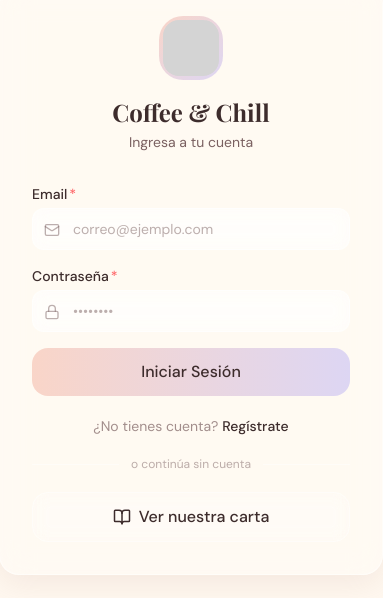
Test: LoginForm › form submission › submit button shows loading state during submission
Type "a@b.com" into the field labelled "Email*". click: (191, 229)
box: x1=32 y1=208 x2=350 y2=250
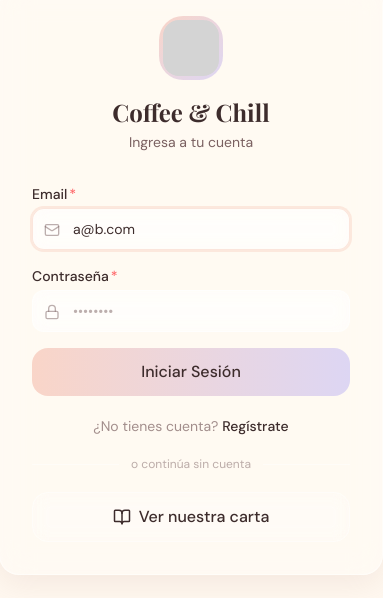
Type "pass" into the password field labelled "Contraseña*". click: (191, 311)
box: x1=32 y1=290 x2=350 y2=332
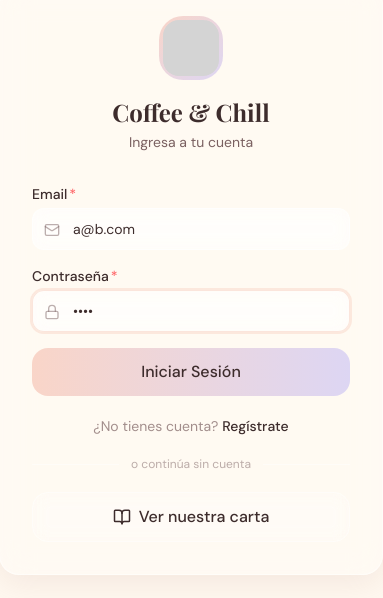
Click the button "Iniciar Sesión". click: (191, 372)
box: x1=32 y1=348 x2=350 y2=396
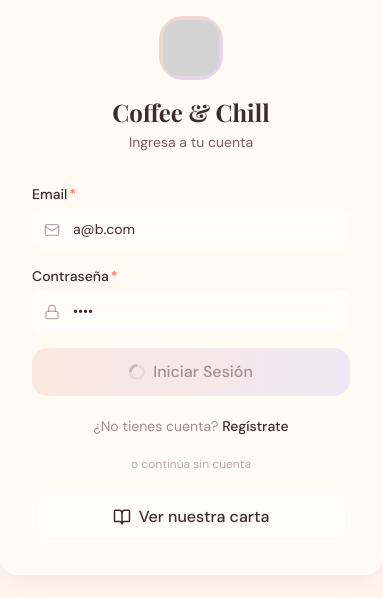
Now the button "Iniciar Sesión" is disabled, box x1=32 y1=348 x2=350 y2=396
